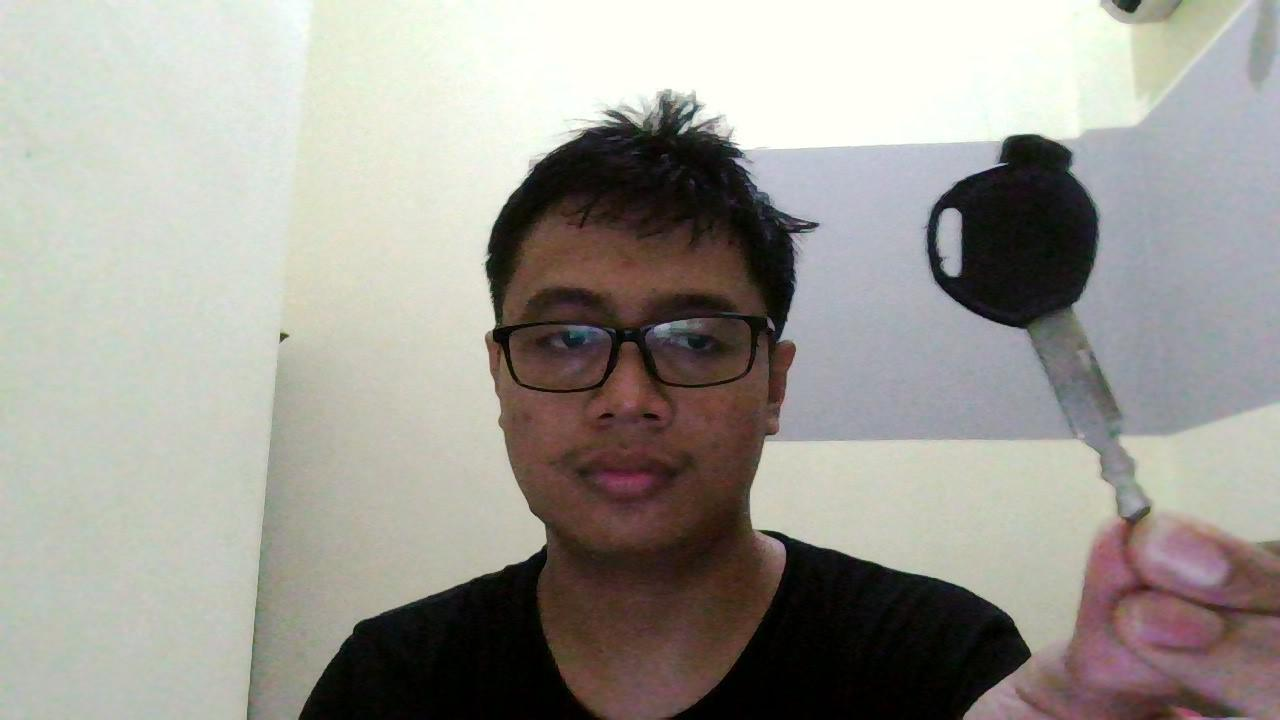keys: (921, 119, 1166, 539)
